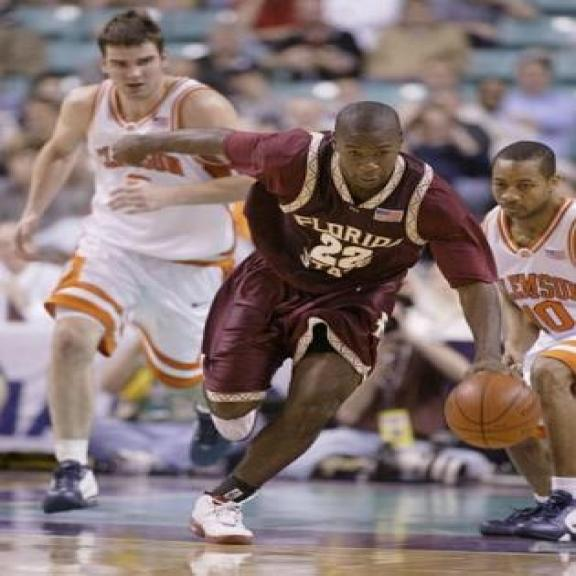face: (332, 116, 402, 194), (488, 160, 564, 223), (99, 40, 172, 100), (418, 66, 467, 89), (420, 116, 450, 150), (518, 69, 555, 94), (480, 79, 506, 114)
